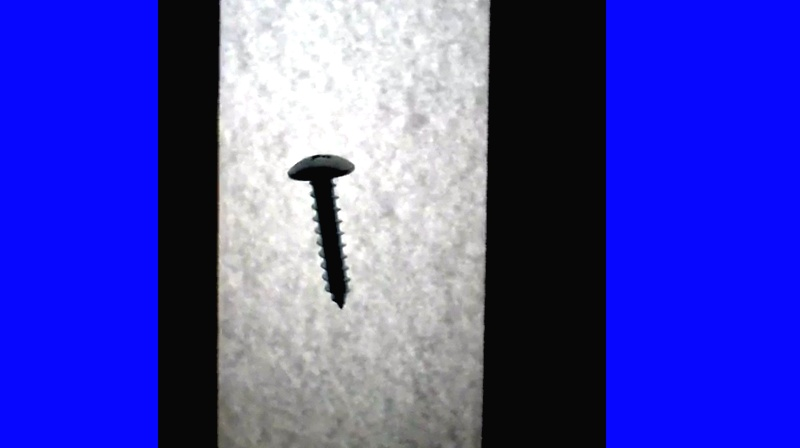S003: (286, 149, 356, 311)
